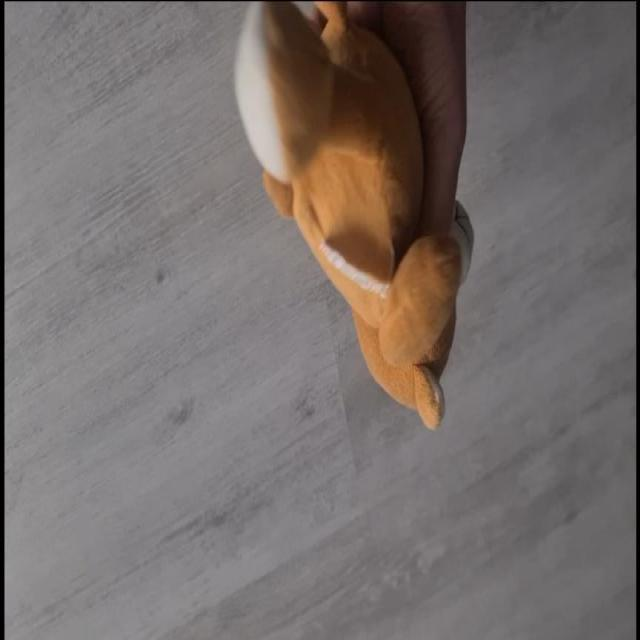soft-toy: (237, 5, 461, 428)
